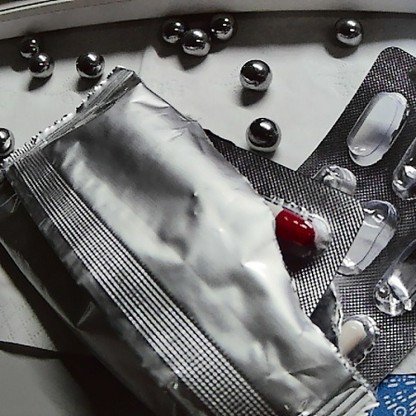ironball: (63, 41, 124, 87), (227, 55, 283, 100), (237, 114, 290, 155), (152, 7, 187, 51), (334, 15, 366, 51), (203, 7, 239, 37), (4, 31, 47, 56), (177, 26, 212, 56), (22, 50, 53, 76), (0, 124, 22, 160)
